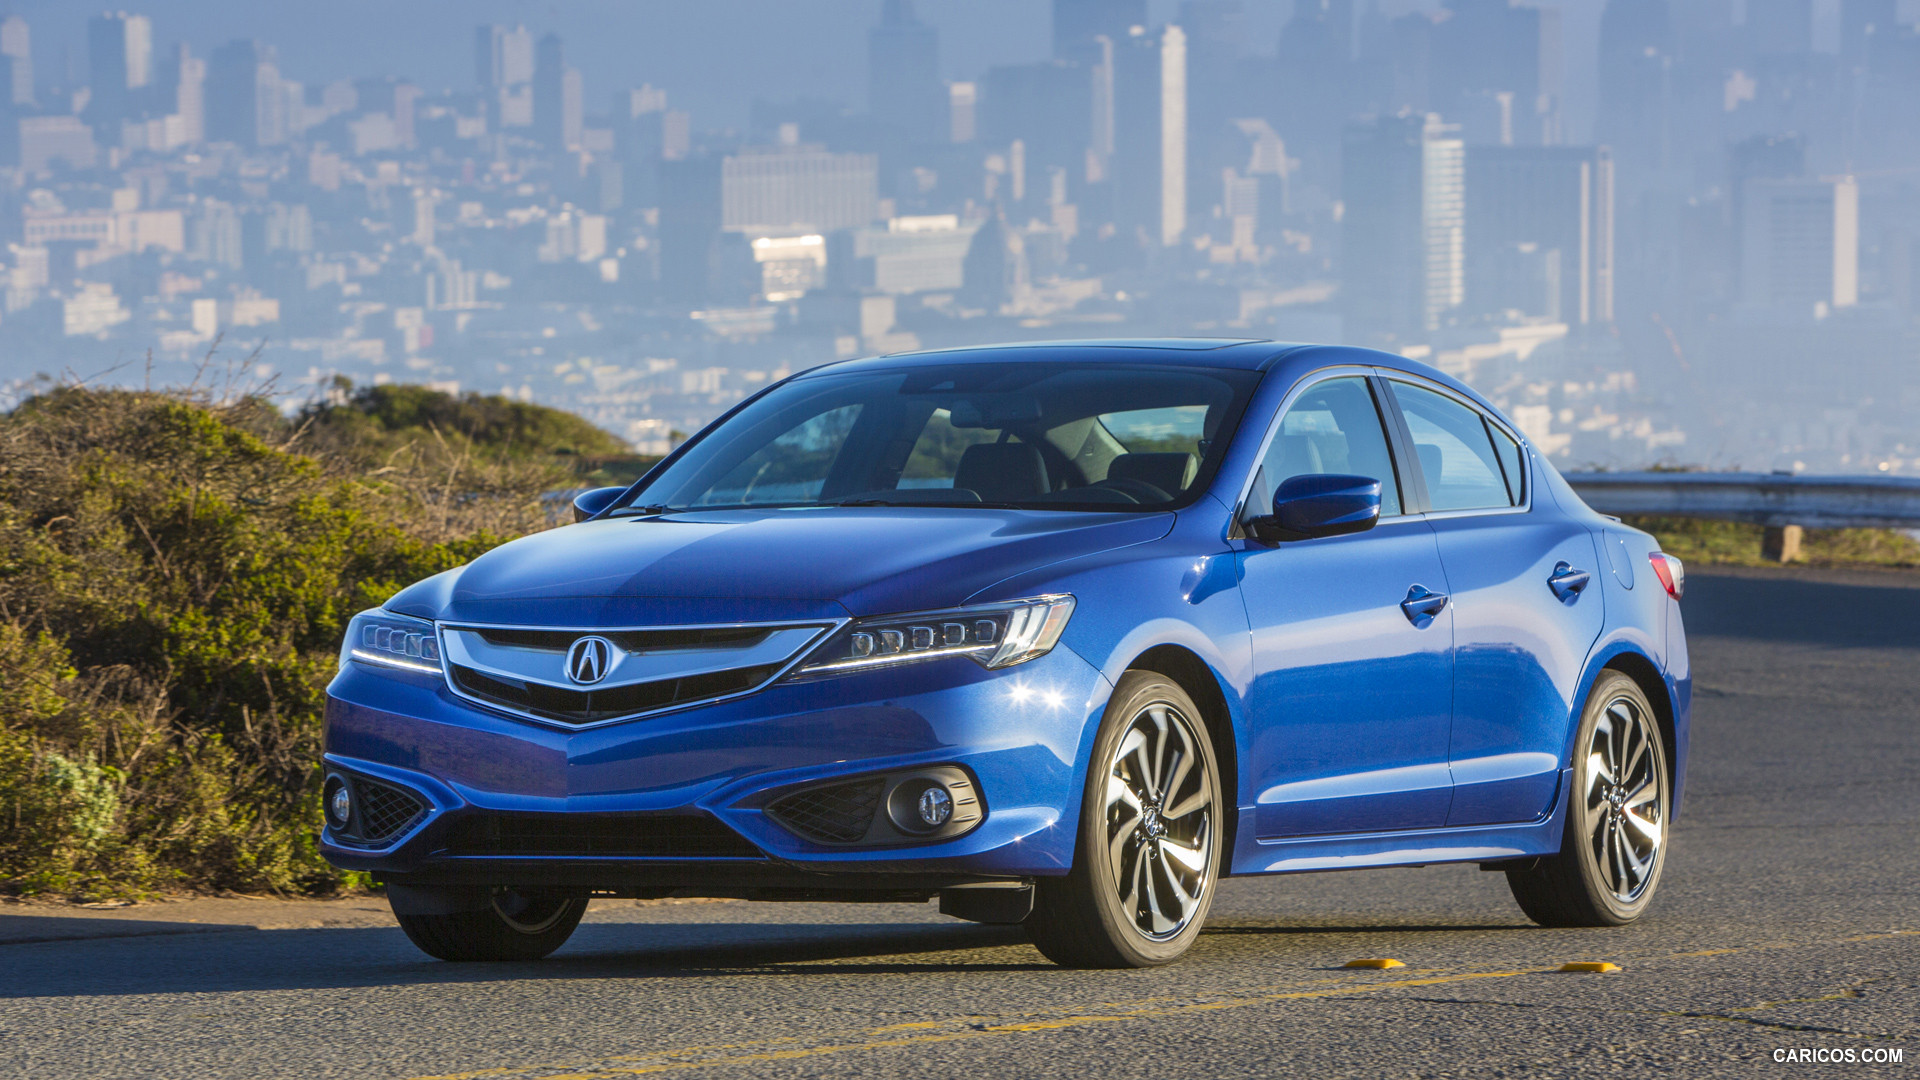Fog Lamp & Scope: (757, 756, 998, 857)
Front: (293, 506, 1230, 897)
Front Bumper: (314, 720, 1110, 873)
Grill: (423, 611, 857, 736)
Headlight: (782, 587, 1091, 688)
